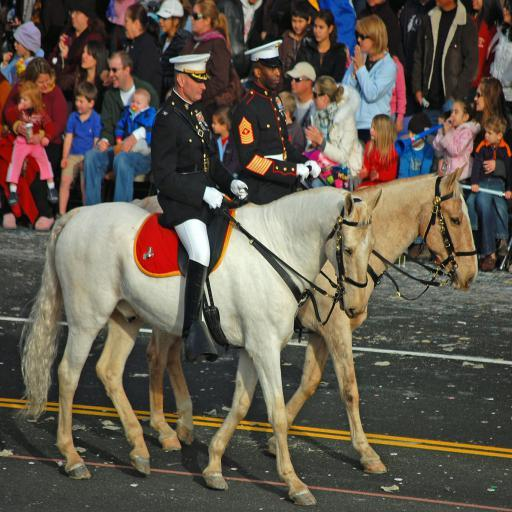Horse: (20, 184, 383, 504), (144, 161, 479, 476)
